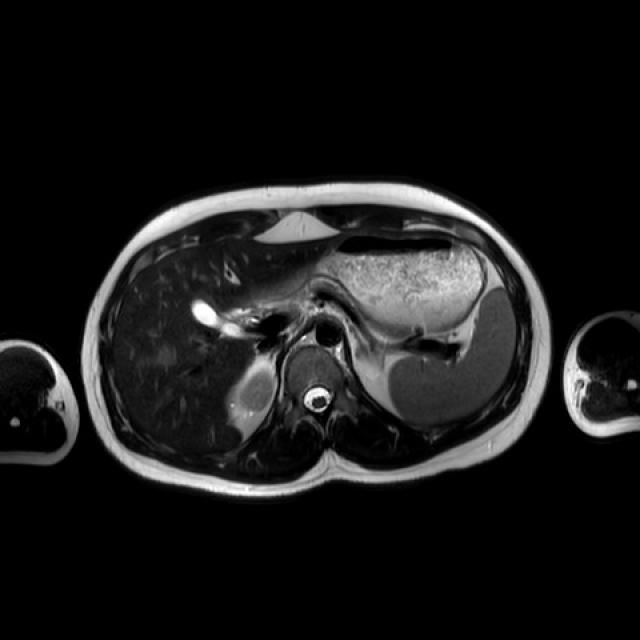sag: (229, 372, 270, 419)
